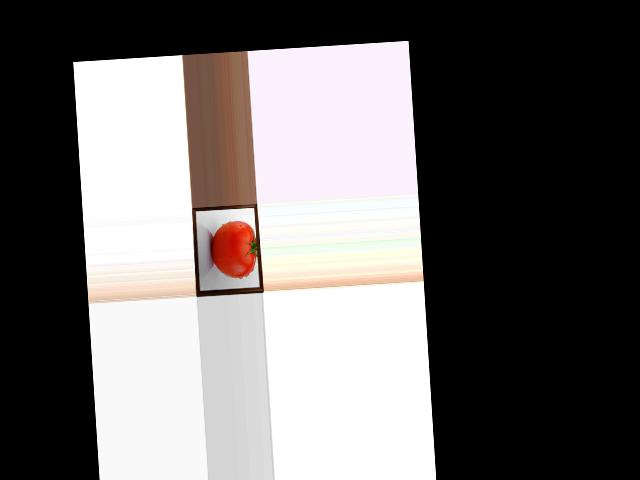tomato: (209, 220, 258, 279)
